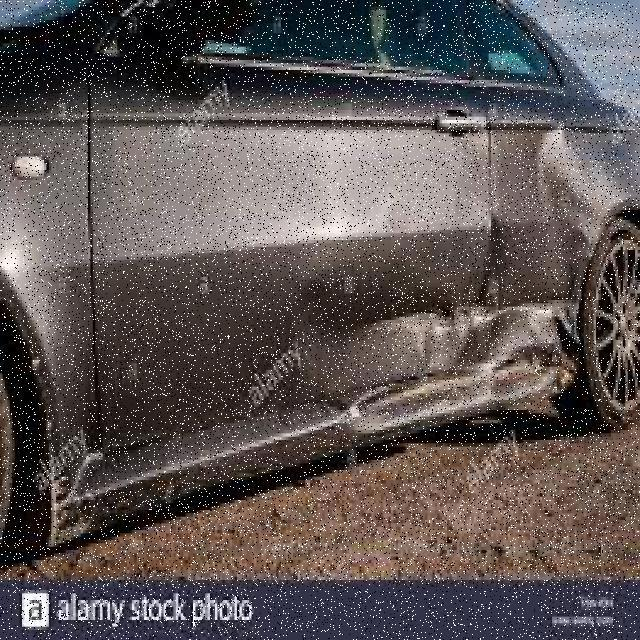RunningBoard-Dent: (344, 363, 570, 437)
doorouter-dent: (95, 76, 491, 386)
quaterpanel-dent: (491, 88, 638, 362)
